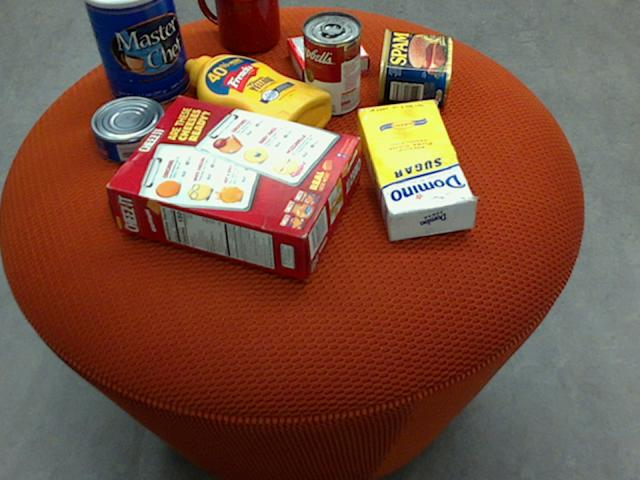cracker_box: (105, 93, 360, 278)
gelatin_box: (286, 26, 369, 85)
large_marker: (236, 0, 266, 46)
master_chef_can: (82, 0, 189, 106)
mug: (198, 0, 278, 53)
mustard_bottle: (184, 55, 330, 152)
potted_meat_can: (375, 29, 450, 106)
sugar_box: (354, 100, 477, 239)
tomato_soup_can: (301, 10, 361, 115)
tuna_fish_can: (89, 96, 168, 163)
